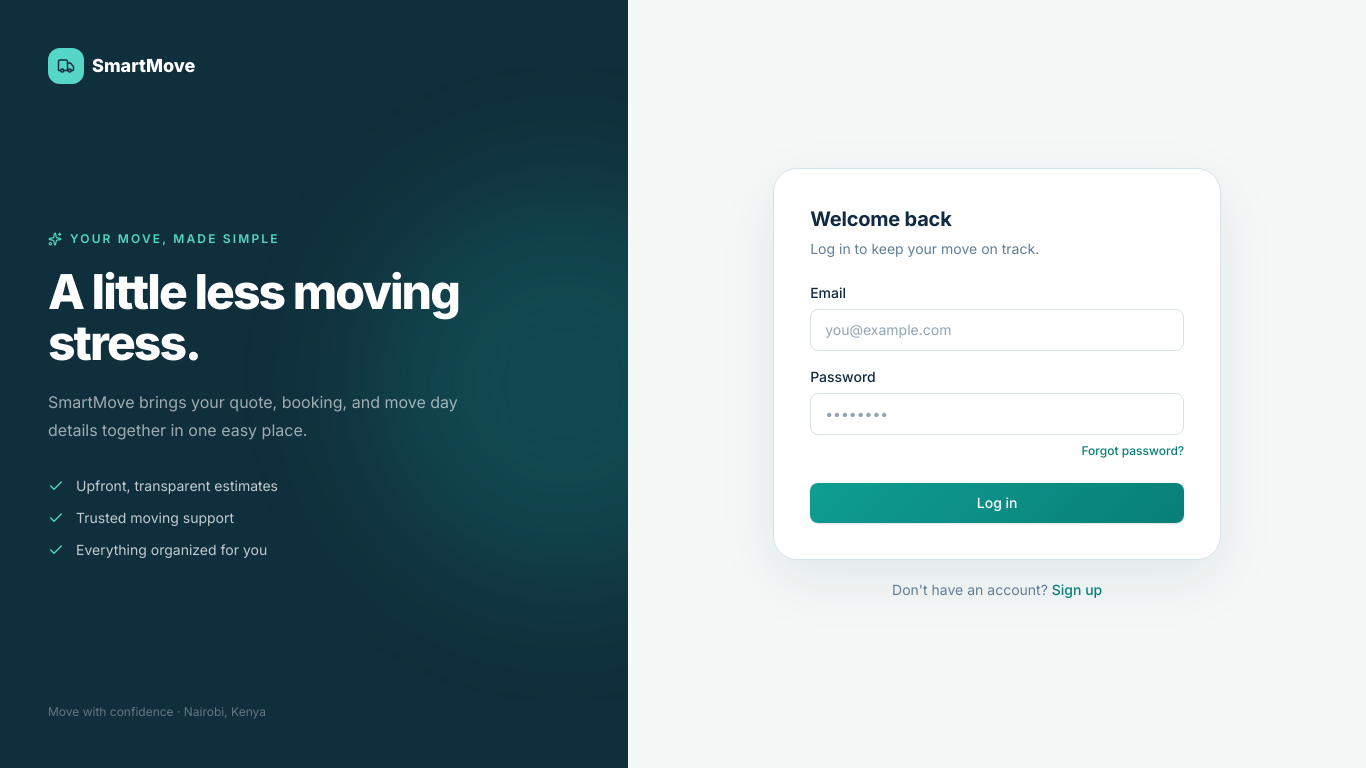
Test: Login page › shows validation errors for empty submission
Click the button "Log in": click(997, 503) x1=810 y1=483 x2=1184 y2=523
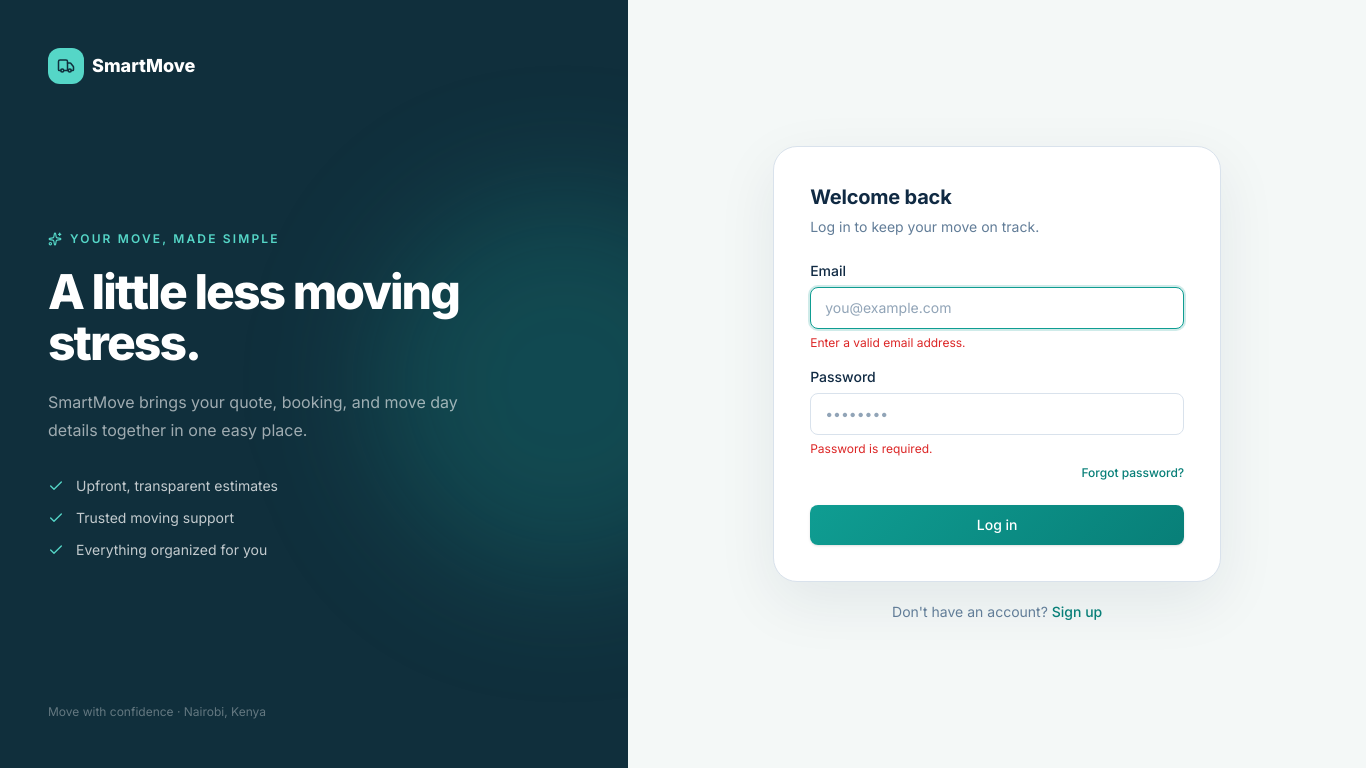
Now the text "Enter a valid email address." is shown, box x1=810 y1=335 x2=966 y2=350
